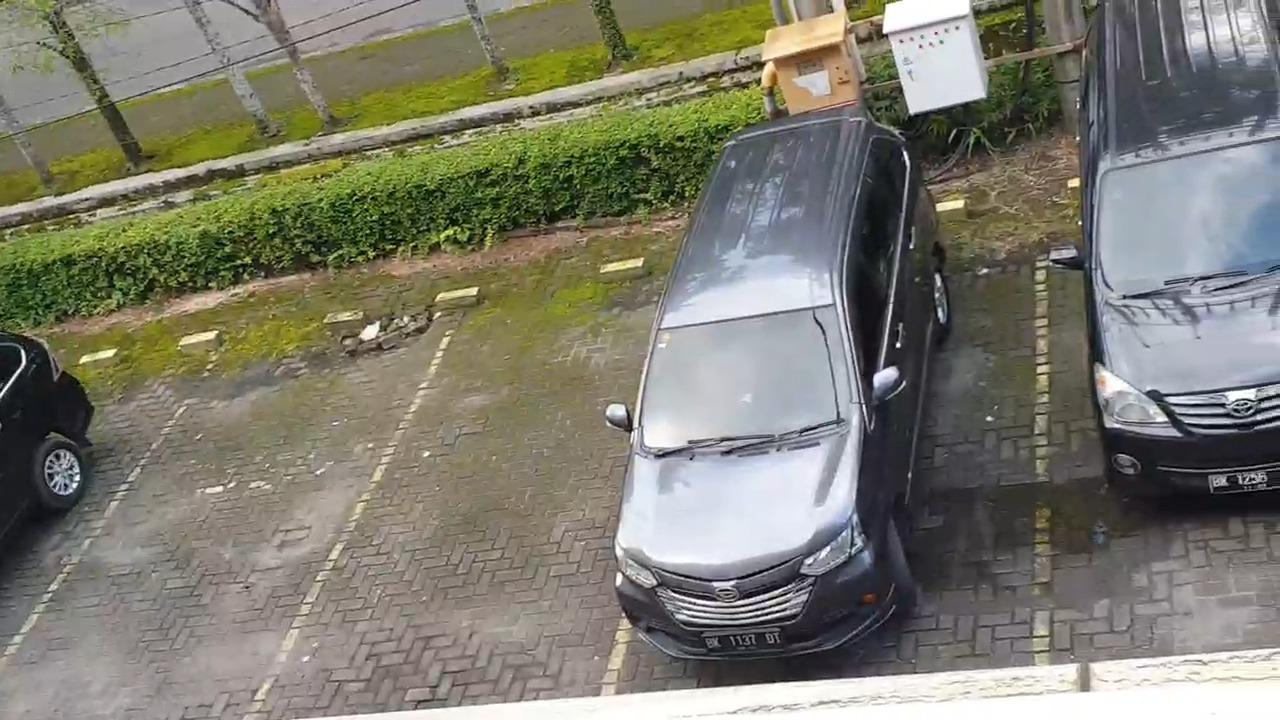empty: (354, 275, 637, 694), (88, 323, 352, 719)
occupied: (617, 177, 1045, 690), (1034, 138, 1280, 649)
